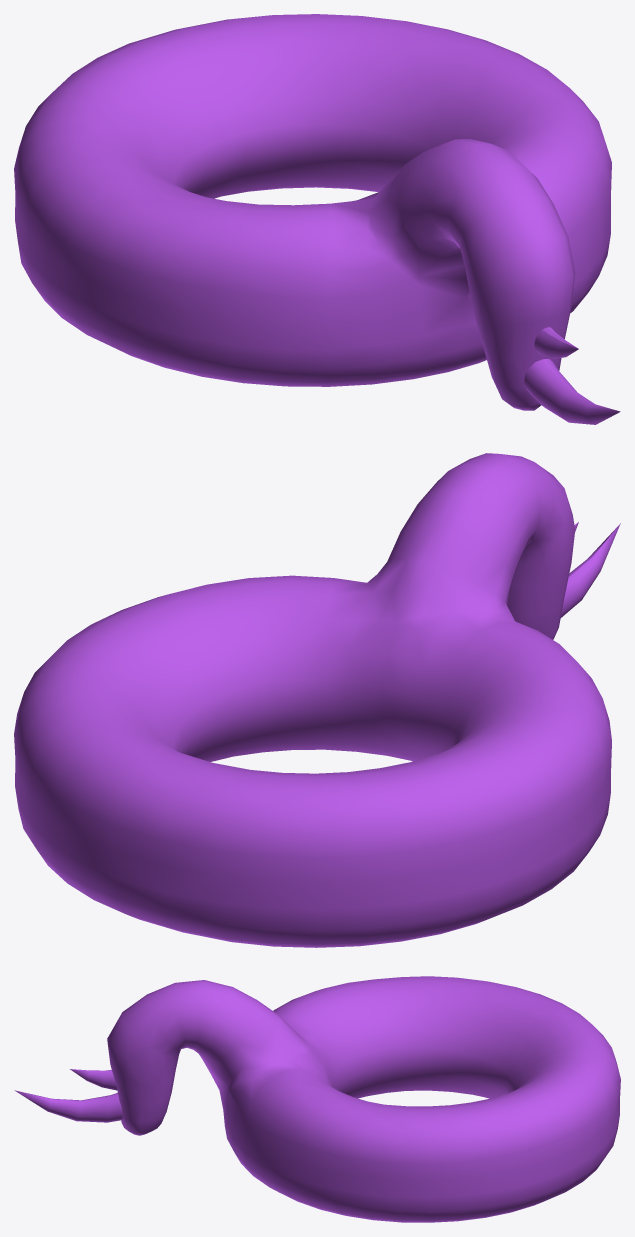
The model's file is Rhino_Low.fbx.
3 renders of one model, top to bottom at view 1: azimuth 30°, elevation 25°; view 2: azimuth 150°, elevation 25°; view 3: azimuth 270°, elevation 25°, orthographic. The views are drawn at different scales.
Visible parts, largest first — view 1: rhino_low, corne_rhino_low; view 2: rhino_low, corne_rhino_low; view 3: rhino_low, corne_rhino_low.
Part boxes in pixels (box(x1,y1,x2,y2)): rhino_low: box(14, 14, 611, 410); corne_rhino_low: box(524, 327, 620, 424); rhino_low: box(14, 453, 611, 947); corne_rhino_low: box(560, 522, 620, 617); rhino_low: box(107, 976, 620, 1222); corne_rhino_low: box(14, 1069, 122, 1122).
Size of the model in its own units: 156 by 73.73 by 239.
